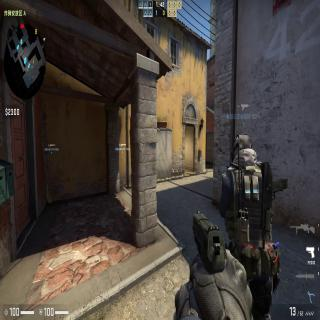CT-Head: (230, 132, 256, 165)
